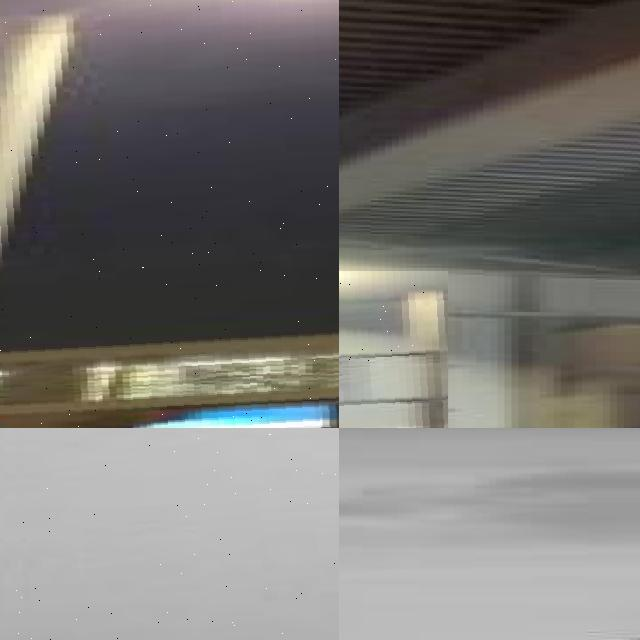street light: (0, 0, 339, 428), (0, 428, 339, 640), (339, 271, 448, 428)
